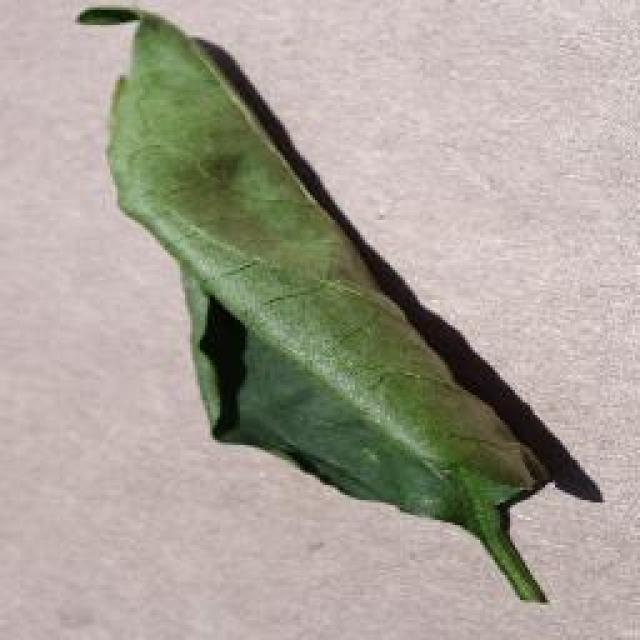Leaf: (97, 5, 546, 522)
